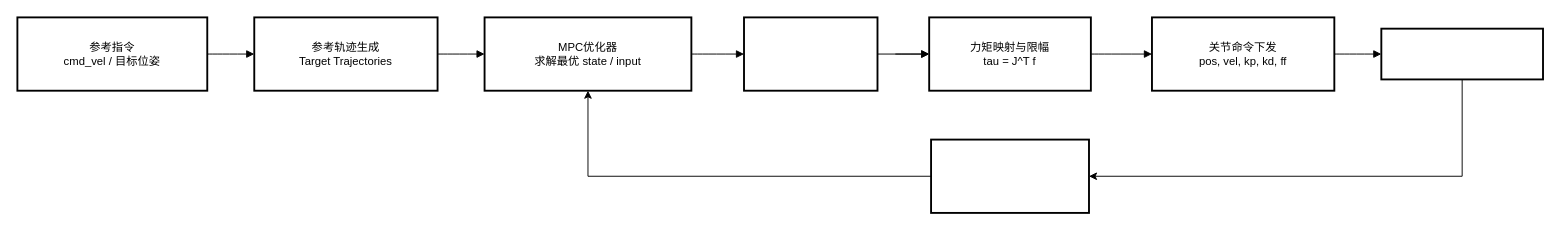
Image size: 1559x229. Some labels were removed from this diagram. The box of each missing label's shape, as (x1, y1, x2, y2) in pixels:
控制量生成 q*、dq*、f*: (743, 16, 878, 91)
机器人本体反馈: (1380, 27, 1543, 80)
状态估计 关节状态 + IMU: (930, 138, 1089, 213)
